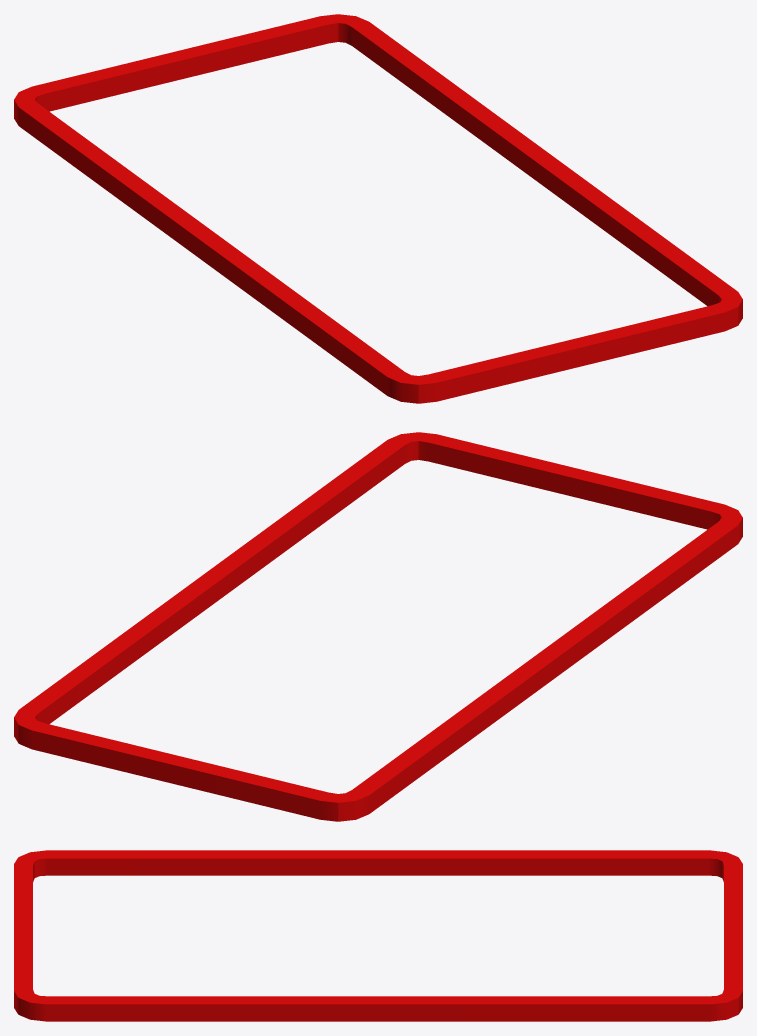
The model's file is test_obj_pit_v01.fbx.
3 renders of one model, top to bottom at view 1: azimuth 30°, elevation 25°; view 2: azimuth 150°, elevation 25°; view 3: azimuth 270°, elevation 25°, orthographic. The views are drawn at different scales.
Parts seen in each view (by area): view 1: pCube3; view 2: pCube3; view 3: pCube3.
Boxes of the visible parts, x1,y1,x2,y2 form: pCube3: (14,14,742,403); pCube3: (14,432,742,821); pCube3: (14,850,742,1021).
Bounding box in the file's own units: 1 × 0.0517 × 2.
